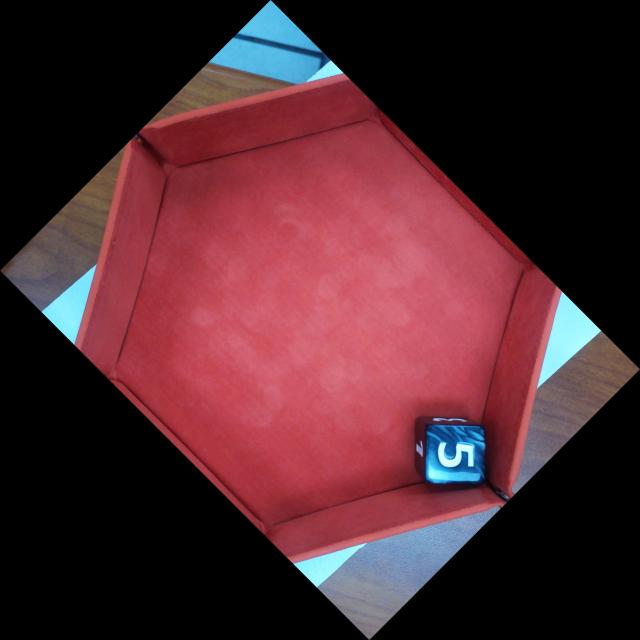dice: (425, 427, 486, 483)
